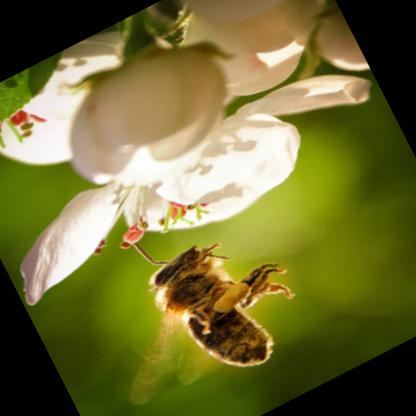other: (77, 202, 319, 415)
